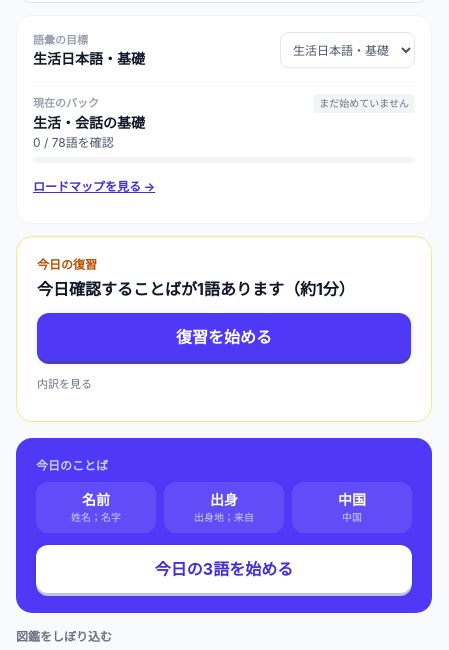
it: 今日の復習（§6・期限ベース） › 内訳は折りたたみで、利用者向けの言葉（翌日の復習など）で表示される
The image size is (449, 650).
(page scrolled)
Click the heading "内訳を見る": (64, 384) [37, 377, 92, 391]
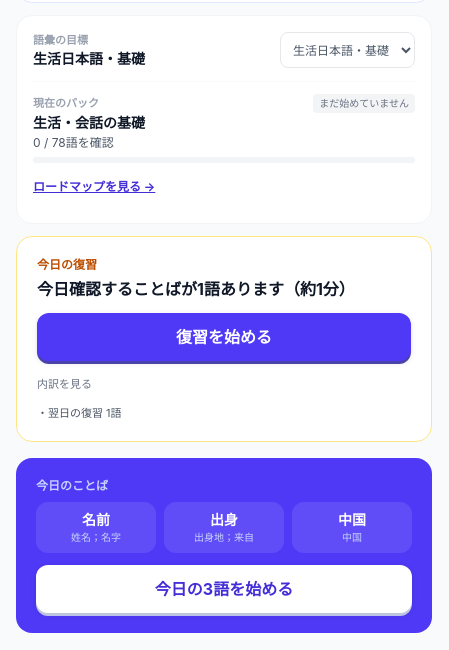
Expected: the list item "・翌日の復習 1語" is shown, [37, 406, 122, 420]
